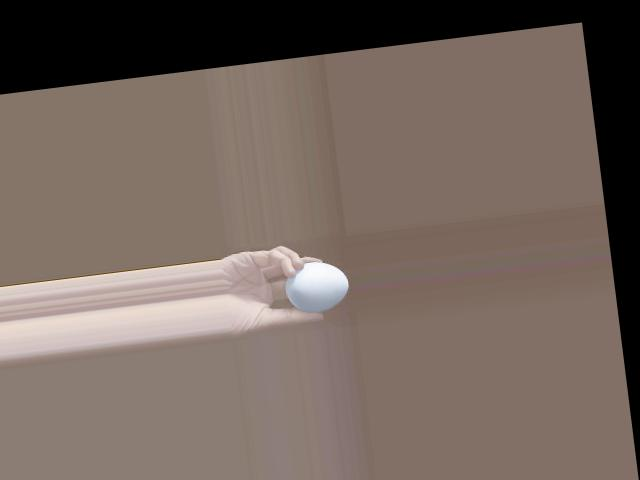egg: (283, 257, 352, 314)
